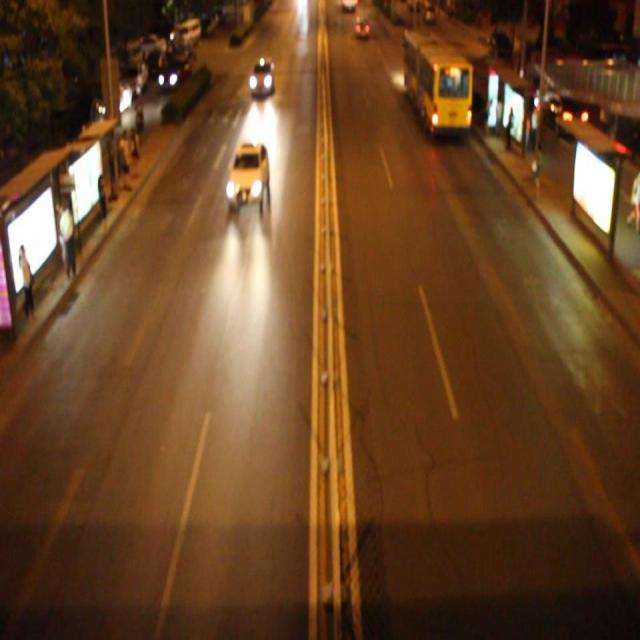car: (227, 142, 270, 204), (249, 58, 274, 98)
van: (402, 27, 471, 133)
